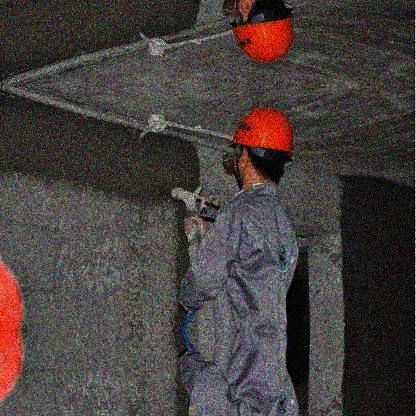helmet: (228, 107, 295, 190), (223, 1, 299, 66)
